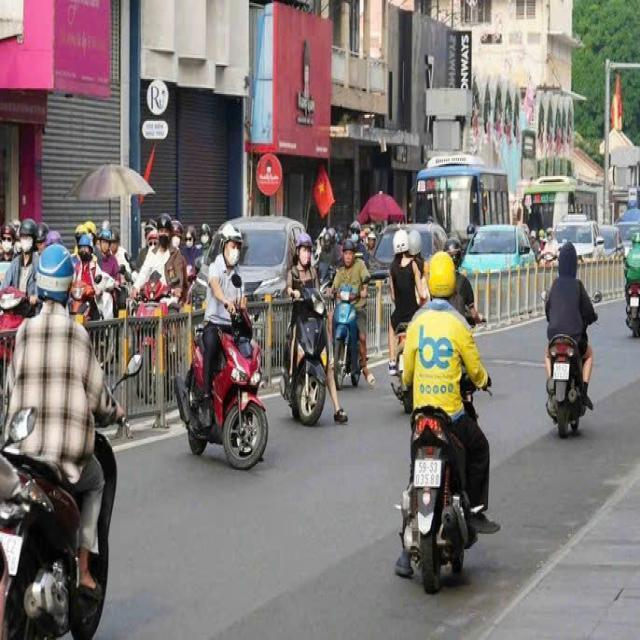car: (454, 218, 549, 326), (619, 194, 640, 303)
motorcycle: (0, 339, 151, 639), (393, 395, 487, 602), (177, 310, 272, 473), (276, 265, 339, 425), (540, 331, 593, 442), (324, 275, 370, 397), (621, 279, 640, 340)
plate: (408, 453, 446, 491), (549, 360, 573, 384)
